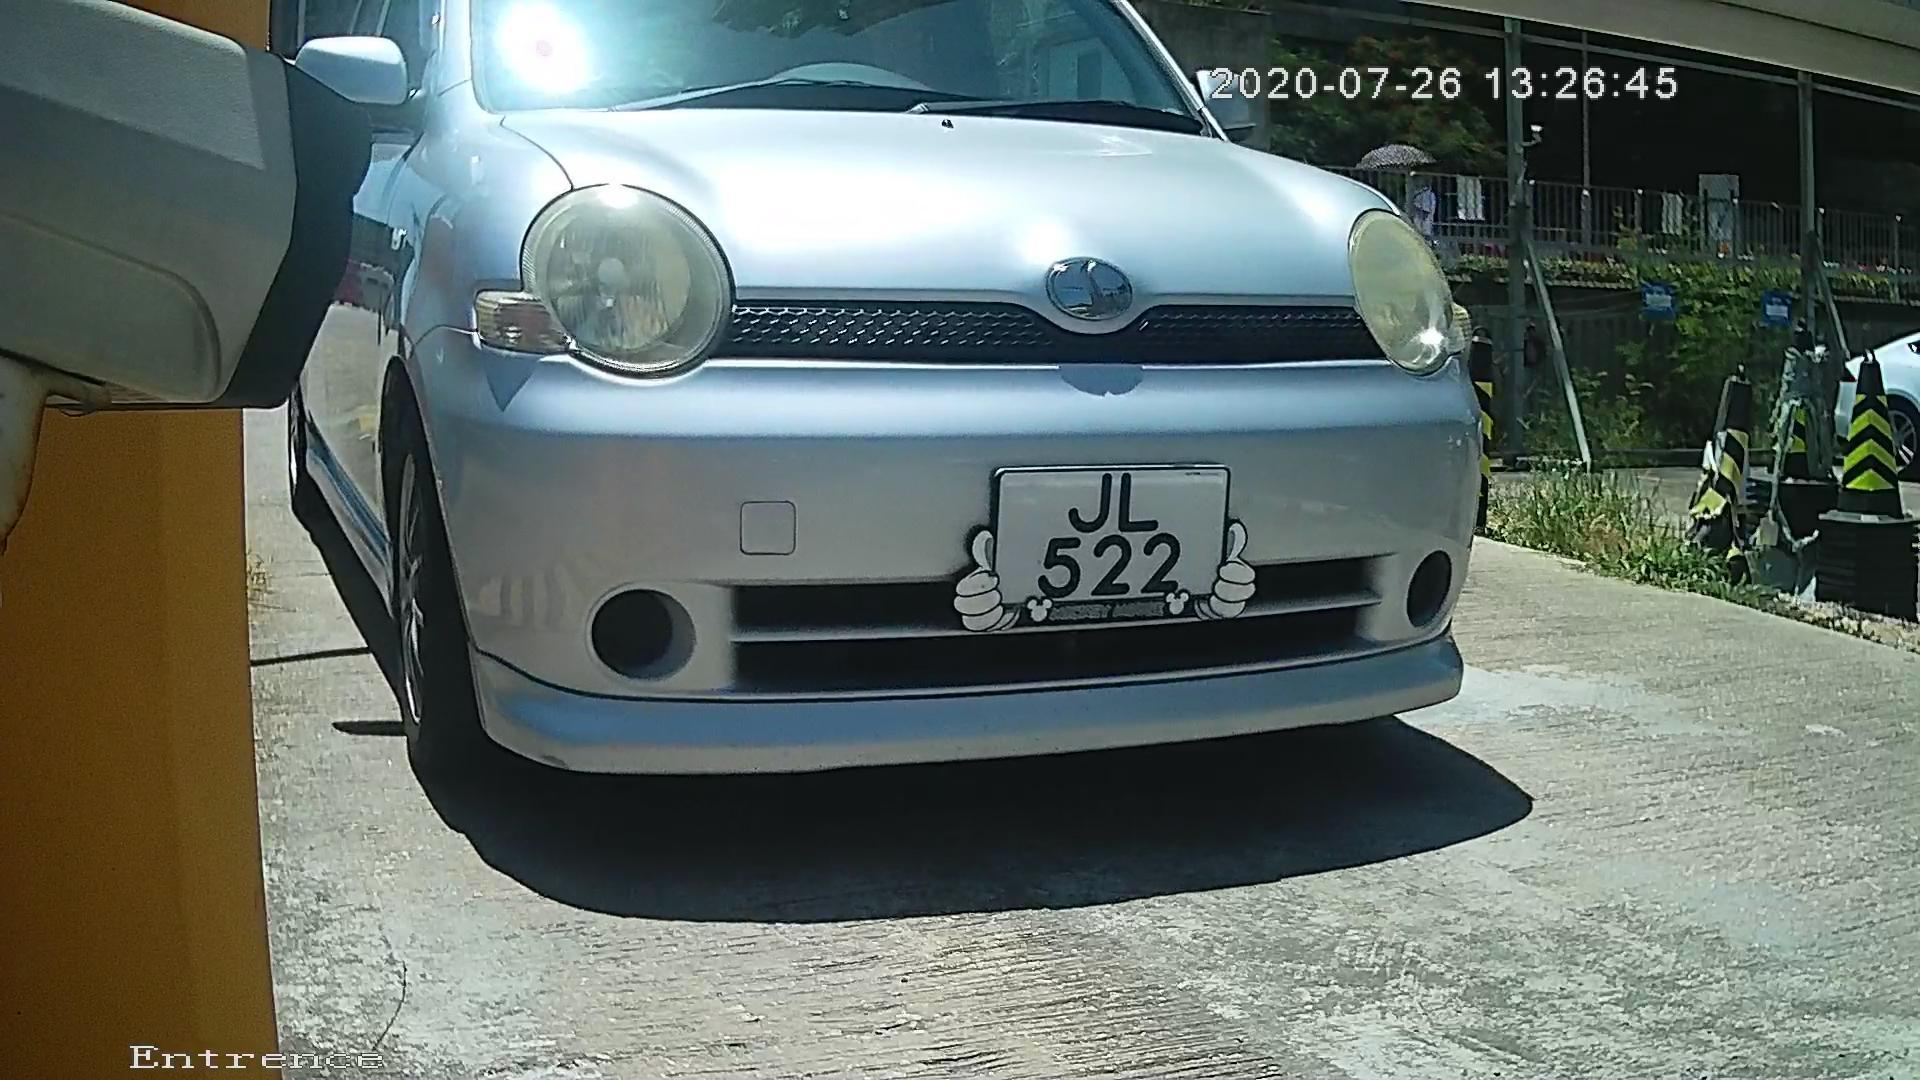privatecar: (266, 44, 1552, 844)
